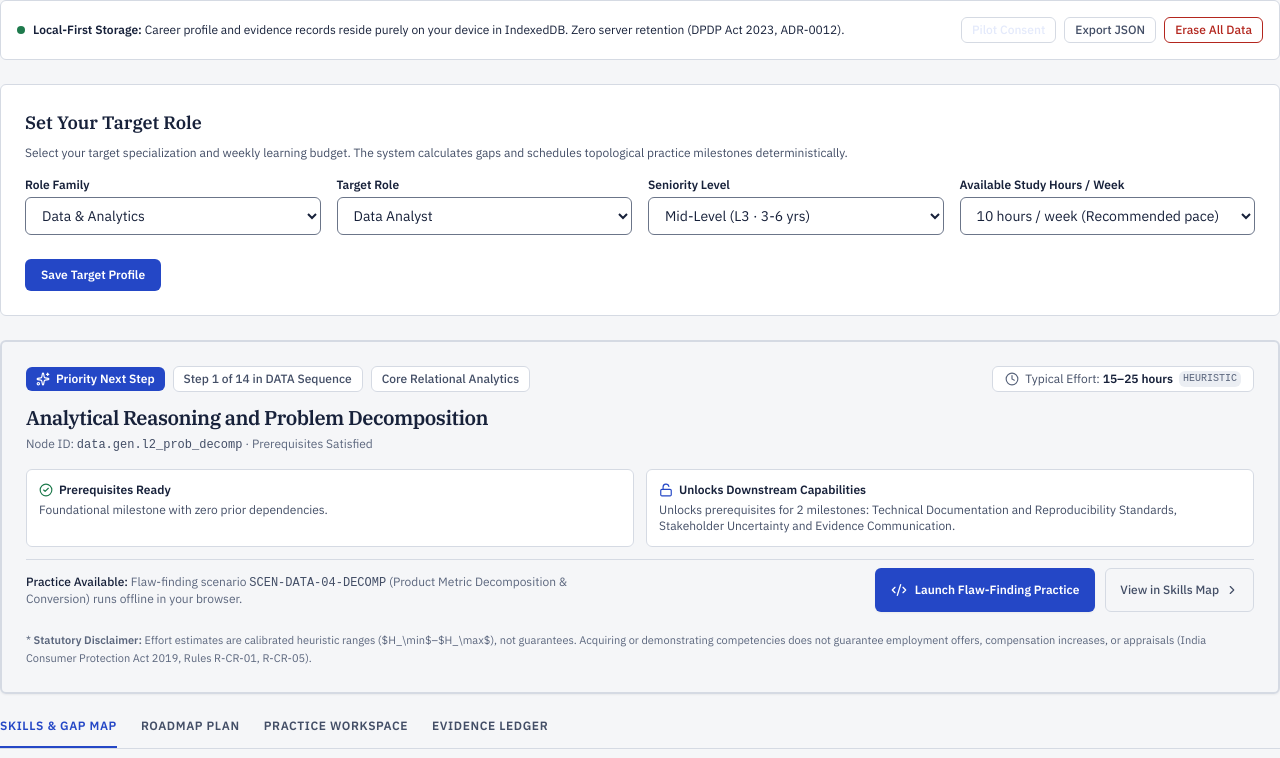
Test case: CareerRoute (T15.28 Career Architect View) › renders setup target form when no profile exists, and saves new profile
Expected: the heading "Set Your Target Role" is shown, x1=25 y1=111 x2=202 y2=134
// Fill form and save
Click the button "Save Target Profile" at (93, 275), box x1=25 y1=259 x2=161 y2=291
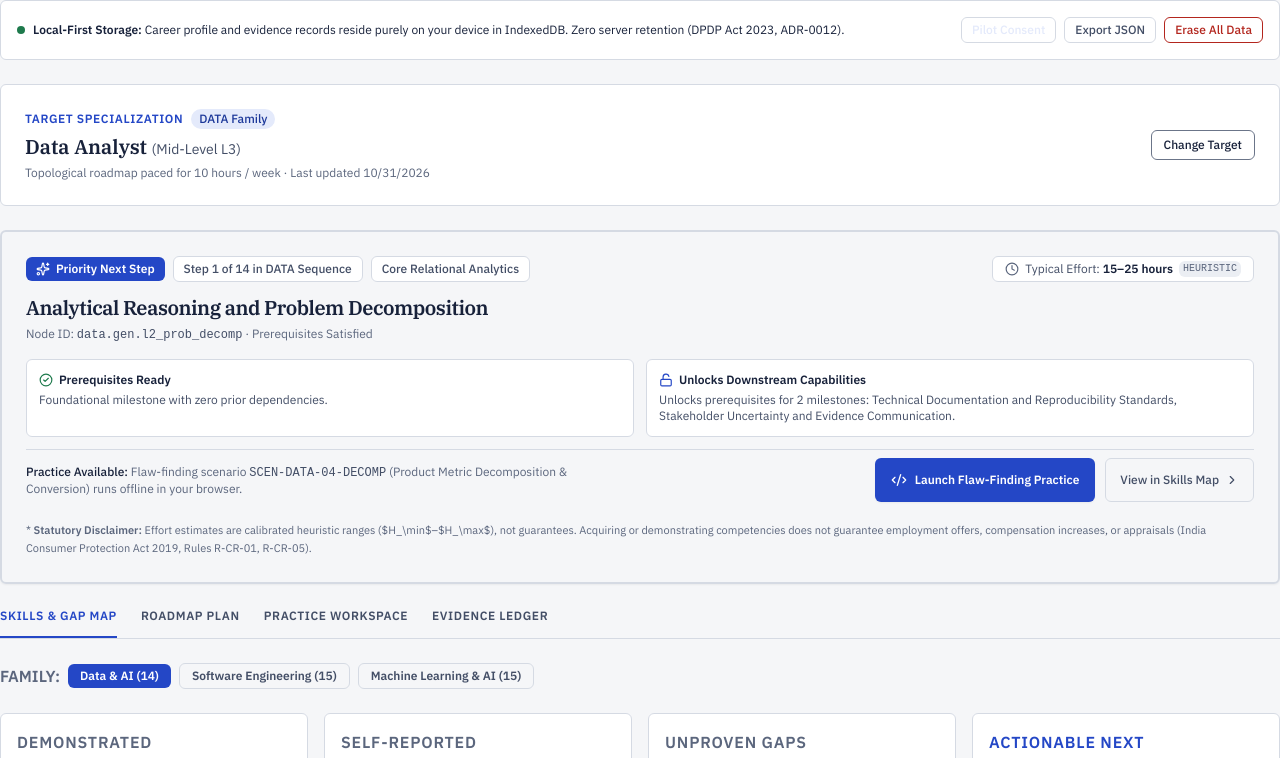
Expected: the text "Target Specialization" is shown, x1=25 y1=111 x2=183 y2=127
Expected: the button "Change Target" is shown, x1=1150 y1=130 x2=1255 y2=160
